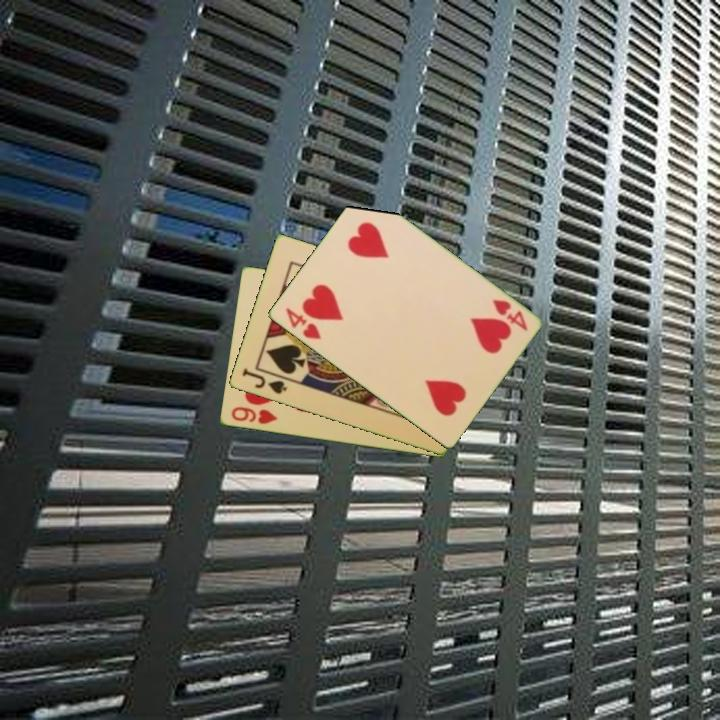4h: (282, 304, 324, 343), (488, 296, 531, 334)
9h: (227, 403, 280, 427)
Js: (238, 365, 290, 397)
